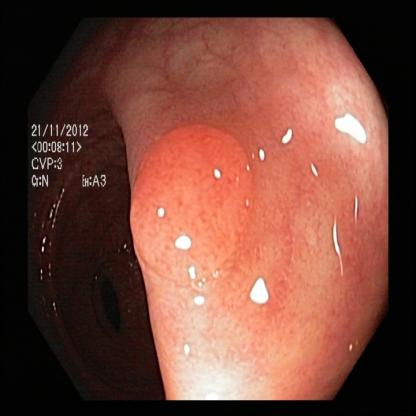Labels: (28, 117, 109, 201)
Polyps: (127, 131, 257, 283)
